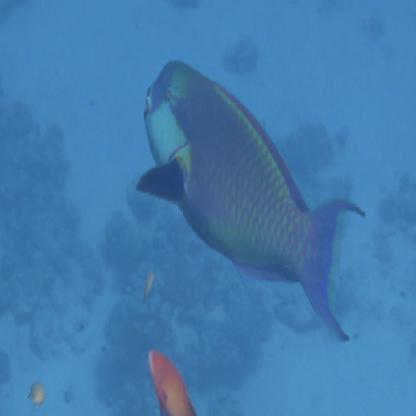Scaridae -Parrotfishes-: (133, 49, 370, 347)
